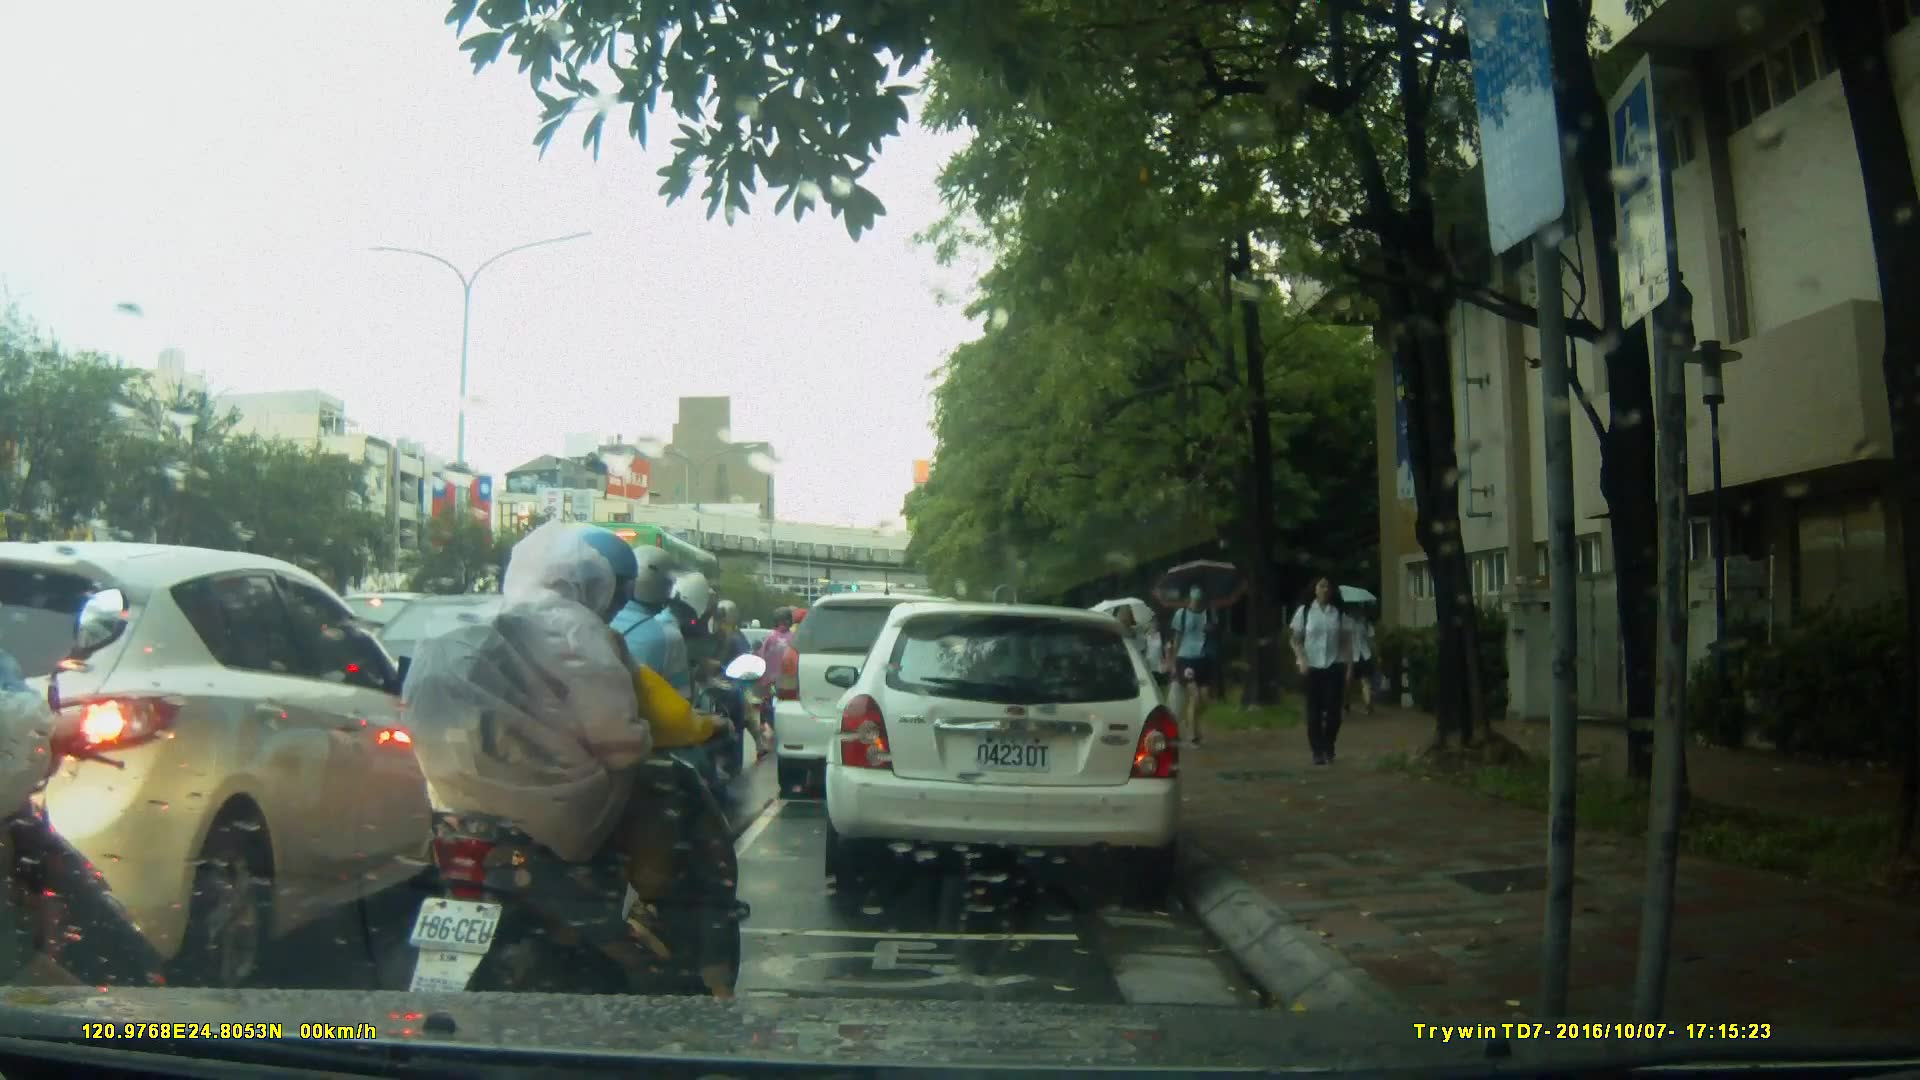pedestrian: (1289, 568, 1366, 772), (1165, 574, 1231, 757), (1105, 601, 1148, 716), (1137, 610, 1172, 729)
rider: (411, 527, 761, 1034), (1, 573, 159, 1076), (558, 546, 718, 882), (625, 574, 752, 856), (685, 596, 772, 768), (752, 602, 806, 750)
vehicle: (1, 540, 478, 990), (822, 604, 1186, 882), (774, 595, 995, 802), (554, 519, 739, 666)
